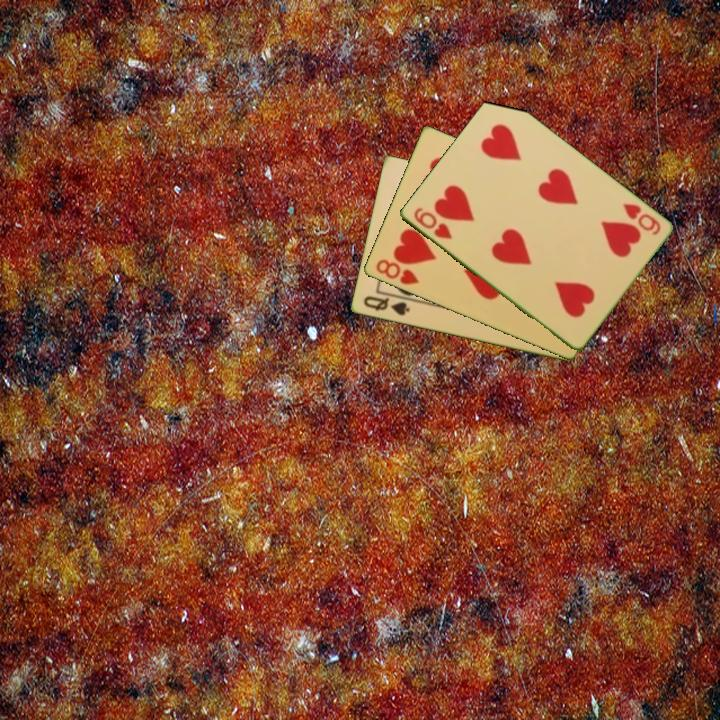6h: (410, 204, 455, 242), (619, 200, 663, 238)
8h: (372, 256, 422, 288)
Qs: (360, 293, 412, 319)
